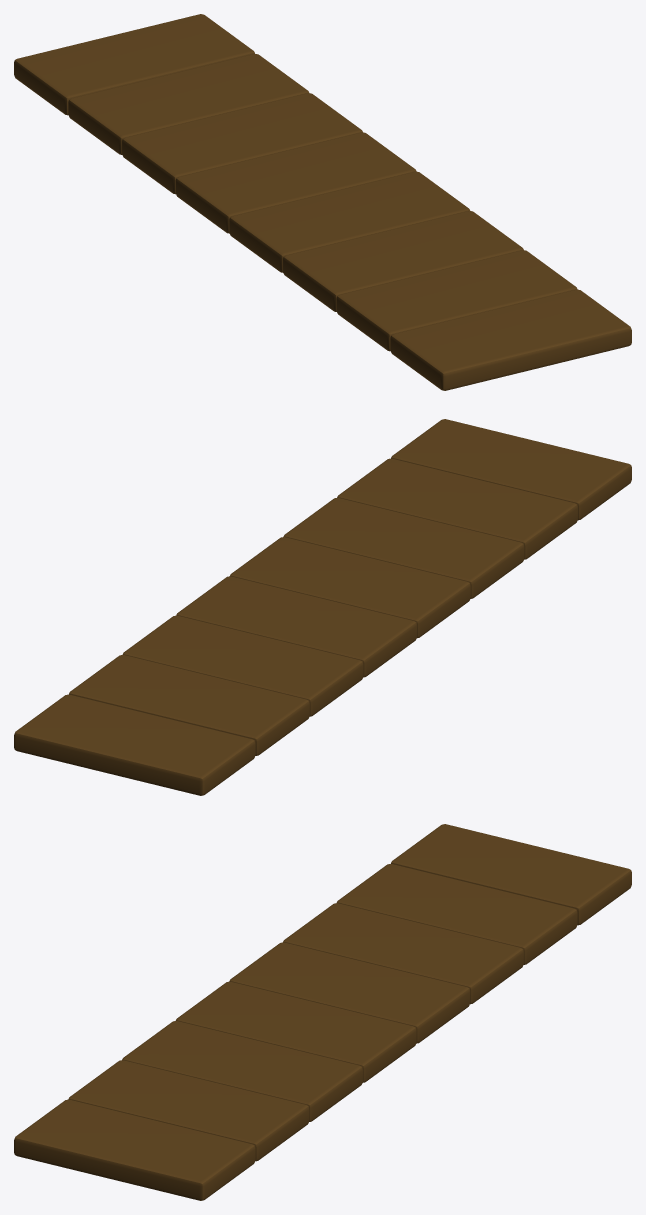
The model's file is GDock_T.fbx.
The picture shows the model from 3 angles, top to bottom: view 1: azimuth 30°, elevation 25°; view 2: azimuth 150°, elevation 25°; view 3: azimuth 330°, elevation 25°; orthographic projection.
Parts seen in each view (by area): view 1: Plank, Plank9, Plank3, Plank6, Plank5, Plank4, Plank8, Plank7; view 2: Plank9, Plank8, Plank, Plank6, Plank7, Plank3, Plank4, Plank5; view 3: Plank, Plank9, Plank3, Plank6, Plank5, Plank4, Plank8, Plank7.
Boxes of the visible parts, <box> form: Plank: <box>390,289,631,390</box>; Plank9: <box>14,14,254,115</box>; Plank3: <box>336,250,577,351</box>; Plank6: <box>175,132,416,233</box>; Plank5: <box>229,171,470,272</box>; Plank4: <box>283,211,523,311</box>; Plank8: <box>68,54,309,154</box>; Plank7: <box>122,93,362,194</box>; Plank9: <box>14,694,255,795</box>; Plank8: <box>69,655,309,755</box>; Plank: <box>391,419,631,520</box>; Plank6: <box>176,576,417,677</box>; Plank7: <box>122,615,363,716</box>; Plank3: <box>337,458,577,559</box>; Plank4: <box>283,497,524,598</box>; Plank5: <box>230,537,470,638</box>; Plank: <box>14,1099,255,1200</box>; Plank9: <box>391,824,631,925</box>; Plank3: <box>68,1060,309,1161</box>; Plank6: <box>229,942,470,1043</box>; Plank5: <box>175,981,416,1082</box>; Plank4: <box>122,1021,362,1121</box>; Plank8: <box>336,864,577,964</box>; Plank7: <box>283,903,523,1004</box>.
Bounding box in the file's own units: 1 × 0.1005 × 3.92.
